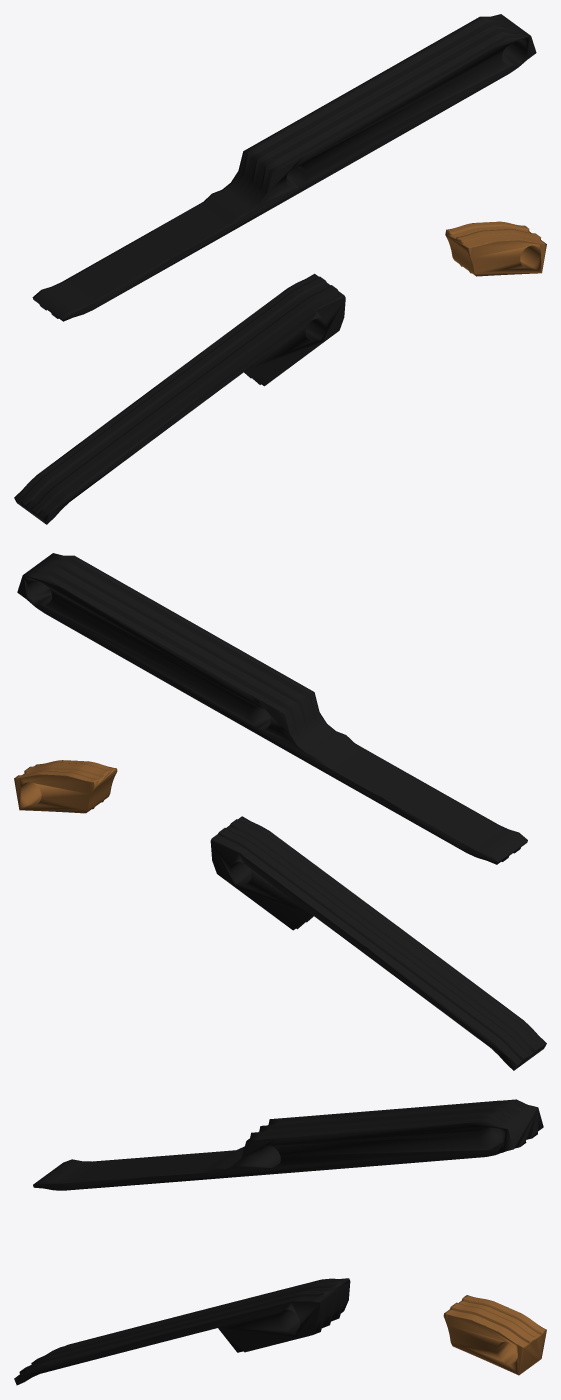
Rendered from guide-rails-right.glb.
The picture shows the model from 3 angles, top to bottom: view 1: azimuth 30°, elevation 25°; view 2: azimuth 150°, elevation 25°; view 3: azimuth 330°, elevation 25°; orthographic projection.
Visible parts, largest first — view 1: guide-rails-right:blackPlastic, guide-rails-right:brownPlastic; view 2: guide-rails-right:blackPlastic, guide-rails-right:brownPlastic; view 3: guide-rails-right:blackPlastic, guide-rails-right:brownPlastic.
Boxes of the visible parts, left/top/right/bottom form: guide-rails-right:blackPlastic: left=14, top=14, right=536, bottom=524; guide-rails-right:brownPlastic: left=445, top=221, right=546, bottom=276; guide-rails-right:blackPlastic: left=17, top=553, right=546, bottom=1070; guide-rails-right:brownPlastic: left=14, top=760, right=117, bottom=813; guide-rails-right:blackPlastic: left=14, top=1099, right=543, bottom=1385; guide-rails-right:brownPlastic: left=443, top=1295, right=546, bottom=1375.
Bounding box in the file's own units: 253 × 181 × 26.
